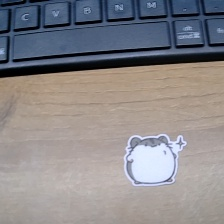mouse: (121, 131, 190, 187)
